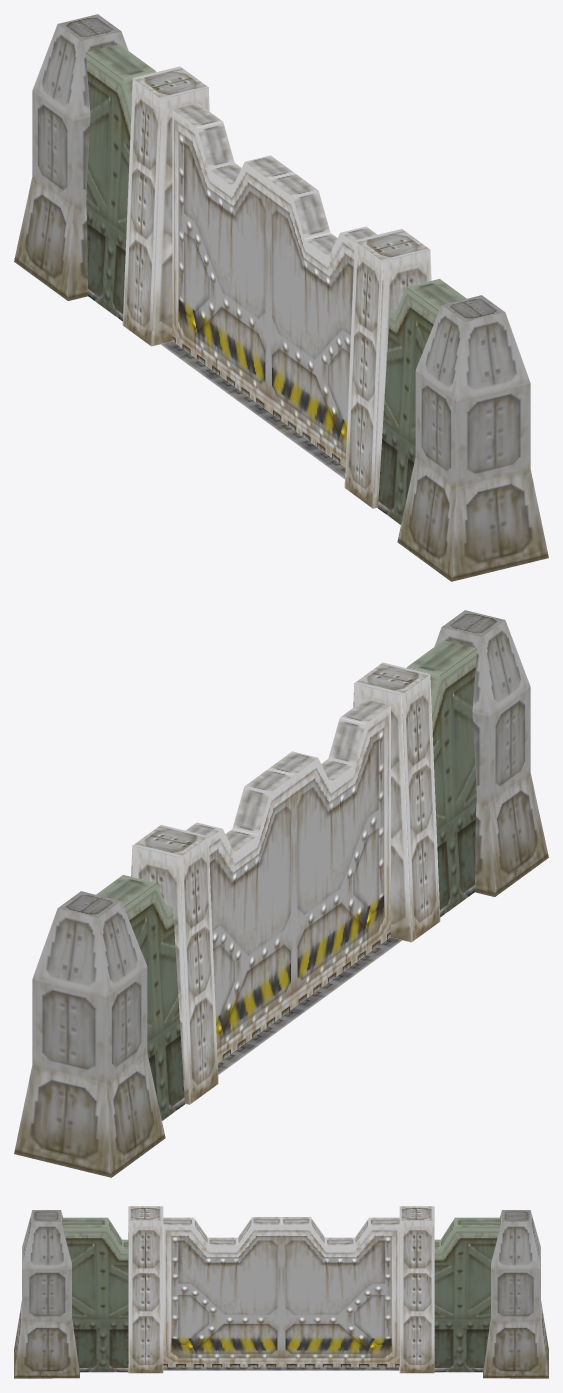
File: l_heavygate.glb
3 renders of one model, top to bottom at view 1: azimuth 30°, elevation 25°; view 2: azimuth 150°, elevation 25°; view 3: azimuth 270°, elevation 25°, orthographic. The views are drawn at different scales.
Parts seen in each view (by area): view 1: L_HeavyGate, L_HeavyGateDoor, Gatefloor_PAB; view 2: L_HeavyGate, L_HeavyGateDoor, Gatefloor_PAB; view 3: L_HeavyGate, L_HeavyGateDoor, Gatefloor_PAB.
Boxes of the visible parts, <box> form: L_HeavyGate: <box>14,14,548,581</box>; L_HeavyGateDoor: <box>172,103,377,467</box>; Gatefloor_PAB: <box>160,341,345,479</box>; L_HeavyGate: <box>14,610,548,1177</box>; L_HeavyGateDoor: <box>186,699,390,1063</box>; Gatefloor_PAB: <box>217,937,402,1074</box>; L_HeavyGate: <box>14,1206,548,1378</box>; L_HeavyGateDoor: <box>163,1217,399,1367</box>; Gatefloor_PAB: <box>163,1367,399,1370</box>.
Bounding box in the file's own units: 7.52 × 18.12 × 58.39.
Materials: 3 (3 with a texture image).
